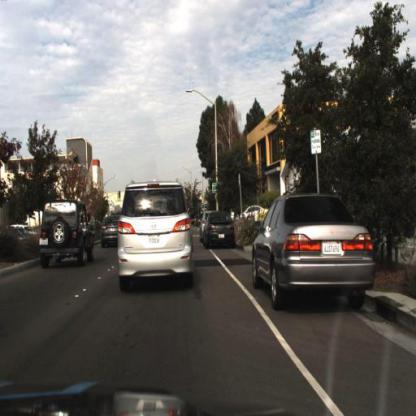car: (242, 185, 383, 326), (111, 170, 201, 303), (33, 189, 101, 279), (38, 194, 96, 272), (201, 208, 242, 257), (94, 208, 128, 251)
